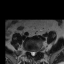CCS_normal: (32, 49, 34, 57)
LFS_stenosis: (36, 47, 38, 54)
LLS_normal: (34, 49, 36, 57)
RFS_stenosis: (28, 48, 30, 53)
RLS_normal: (30, 49, 32, 56)
